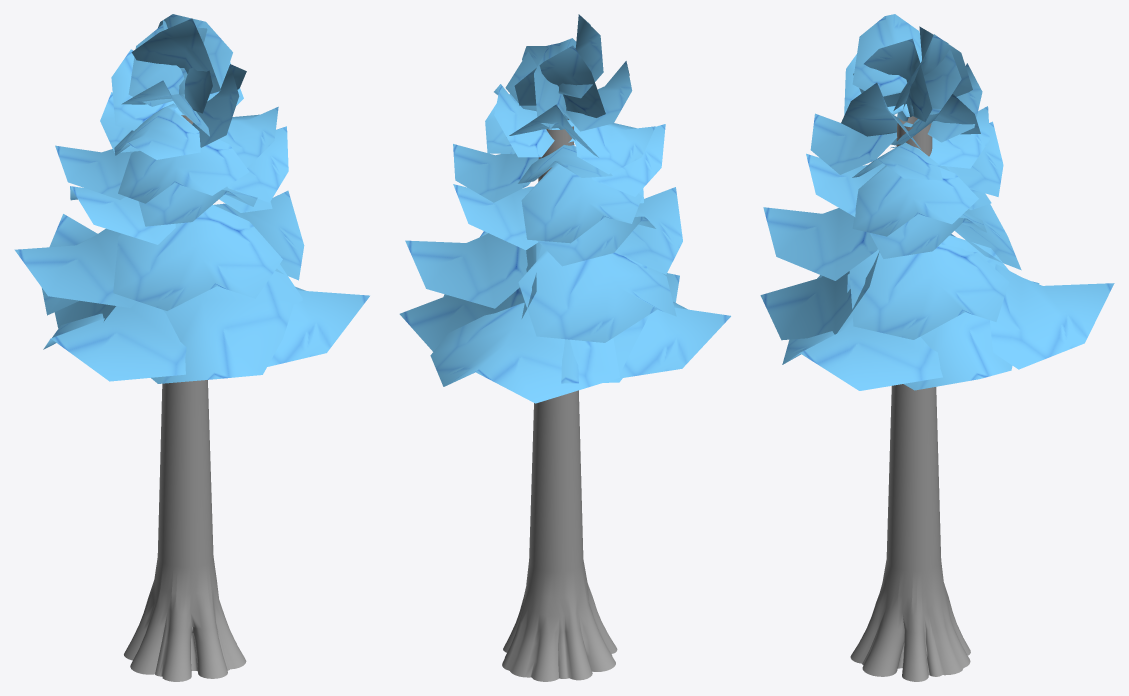
File: SageTree_Trunk1.fbx
3 renders of one model, left to right at view 1: azimuth 30°, elevation 25°; view 2: azimuth 150°, elevation 25°; view 3: azimuth 270°, elevation 25°, orthographic. The views are drawn at different scales.
Visible parts, largest first — view 1: Fronds, tree_trunk1; view 2: Fronds, tree_trunk1; view 3: Fronds, tree_trunk1.
Boxes of the visible parts, x1,y1,x2,y2 form: Fronds: (14, 14, 369, 383); tree_trunk1: (124, 115, 246, 681); Fronds: (399, 14, 730, 403); tree_trunk1: (502, 119, 617, 681); Fronds: (760, 14, 1114, 390); tree_trunk1: (850, 116, 970, 681).
Bounding box in the file's own units: 4068 × 8679 × 4370.
